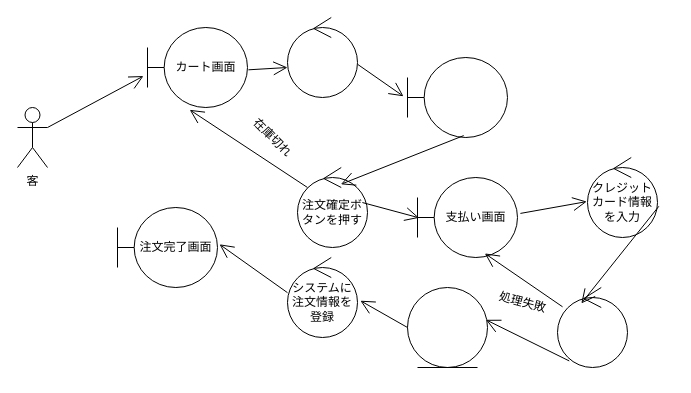
The diagram is 691 pixels wide and 393 high, and some of its shapes have lost their labels. Here are the shapes that lost their labels. From the top down, the box of each, then its label:
(286, 16, 358, 98): 注文確認ボタンを押す
(406, 56, 508, 138): 注文確認画面
(406, 286, 488, 368): 決済結果
(556, 286, 628, 368): クレジットカード決済システムに処理依頼
